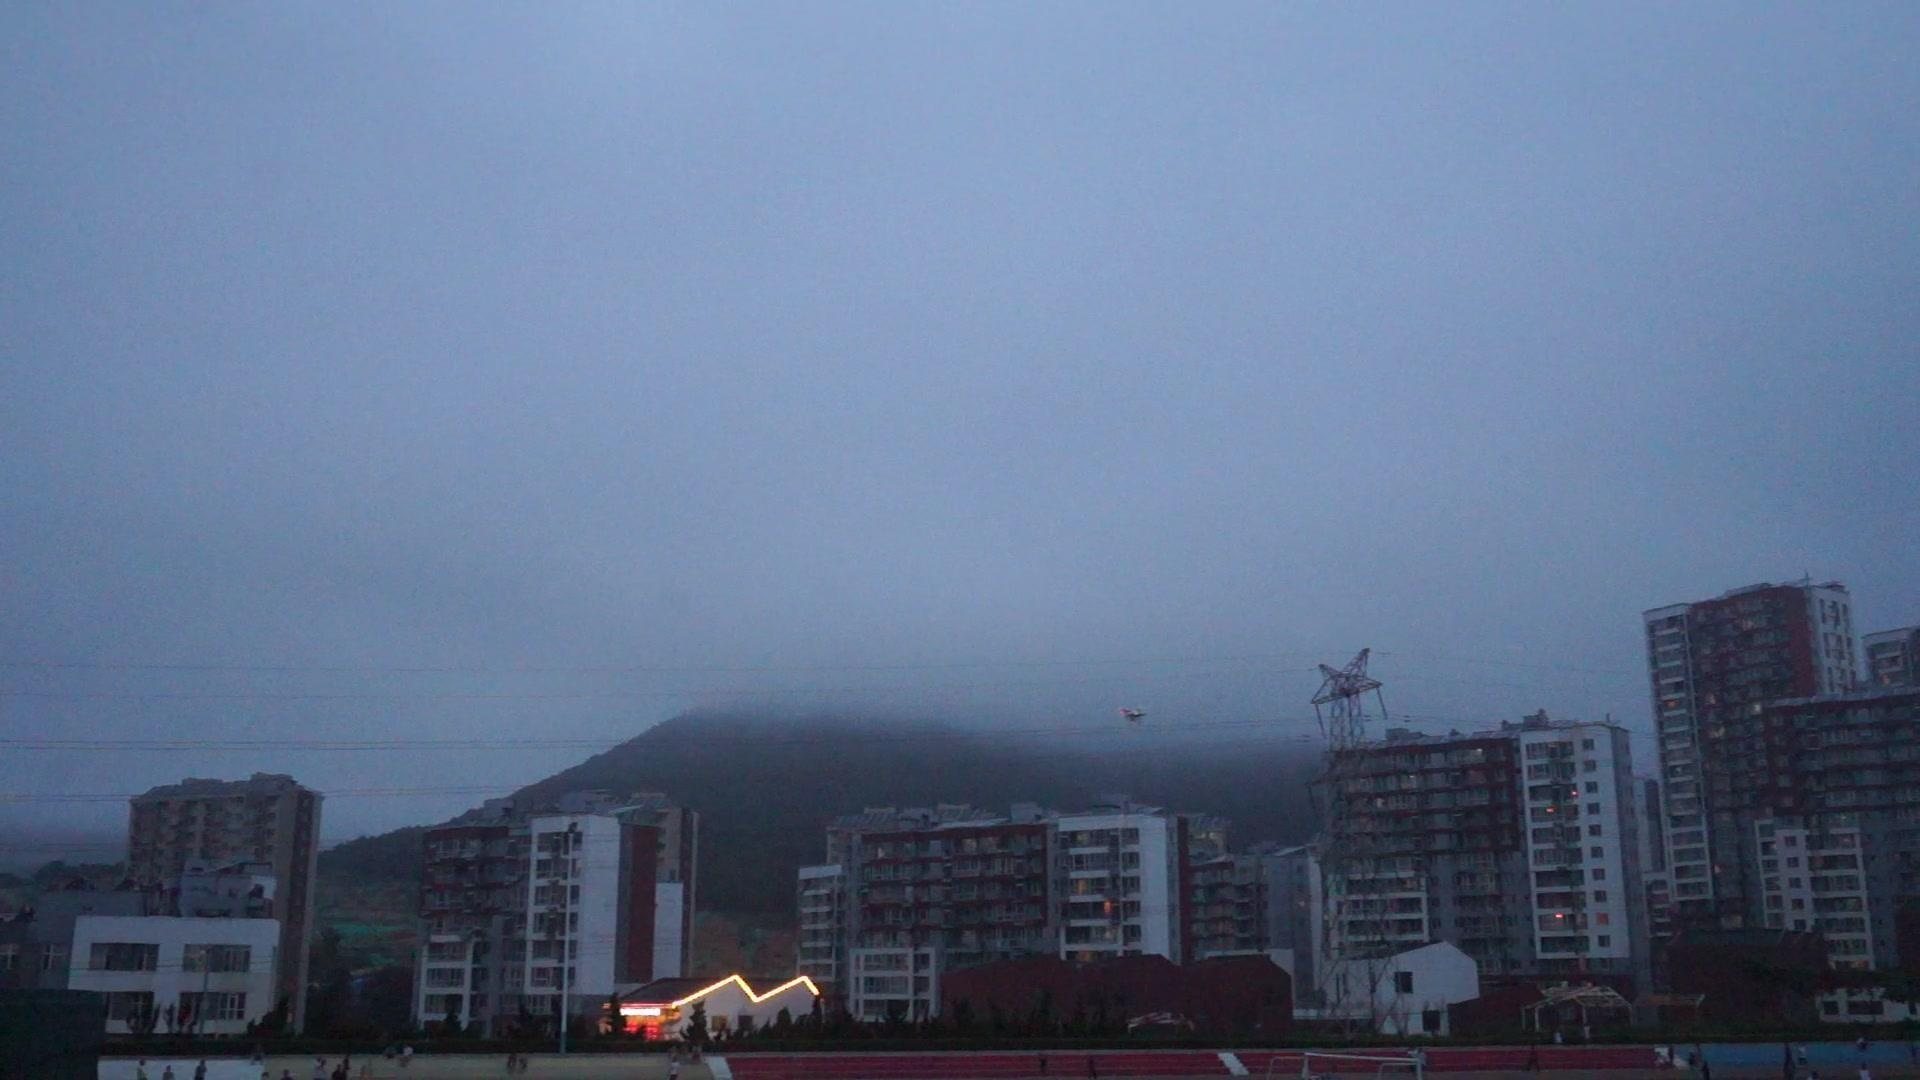UAV: (1120, 708, 1149, 723)
